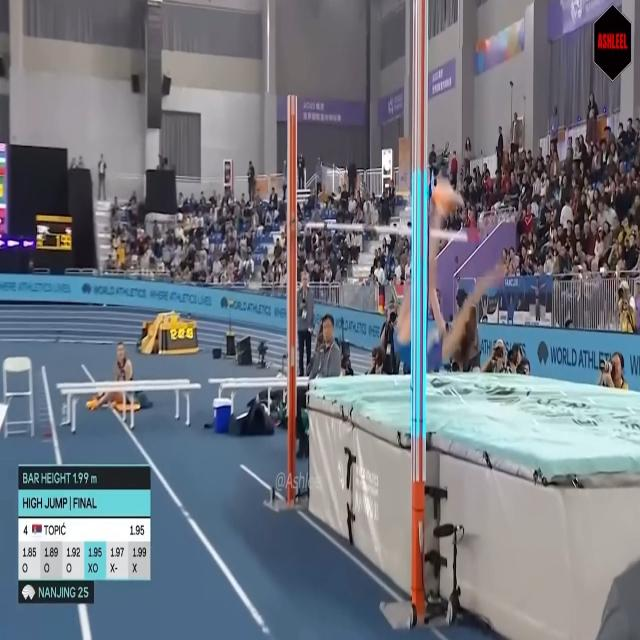land: (397, 175, 505, 366)
